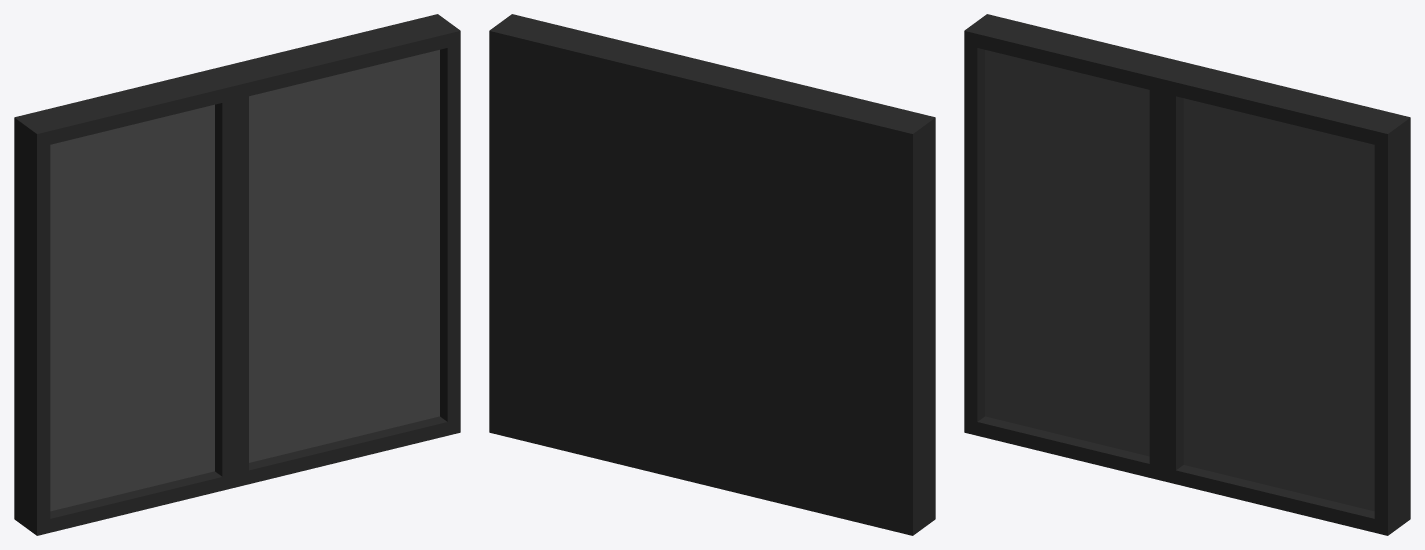
Rendered from alley window.obj.
The picture shows the model from 3 angles, left to right: view 1: azimuth 30°, elevation 25°; view 2: azimuth 150°, elevation 25°; view 3: azimuth 330°, elevation 25°; orthographic projection.
Size of the model in its own units: 3.2 by 2.9 by 0.3.
1 material, 1 textured.
